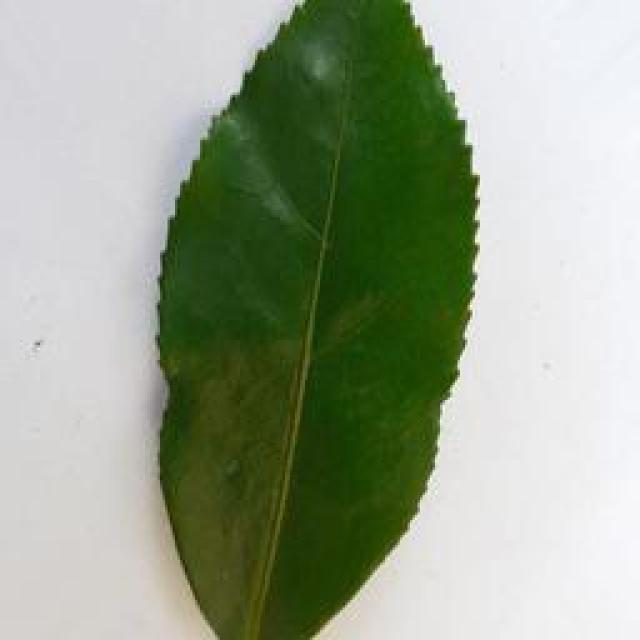Healthy: (153, 2, 475, 640)
